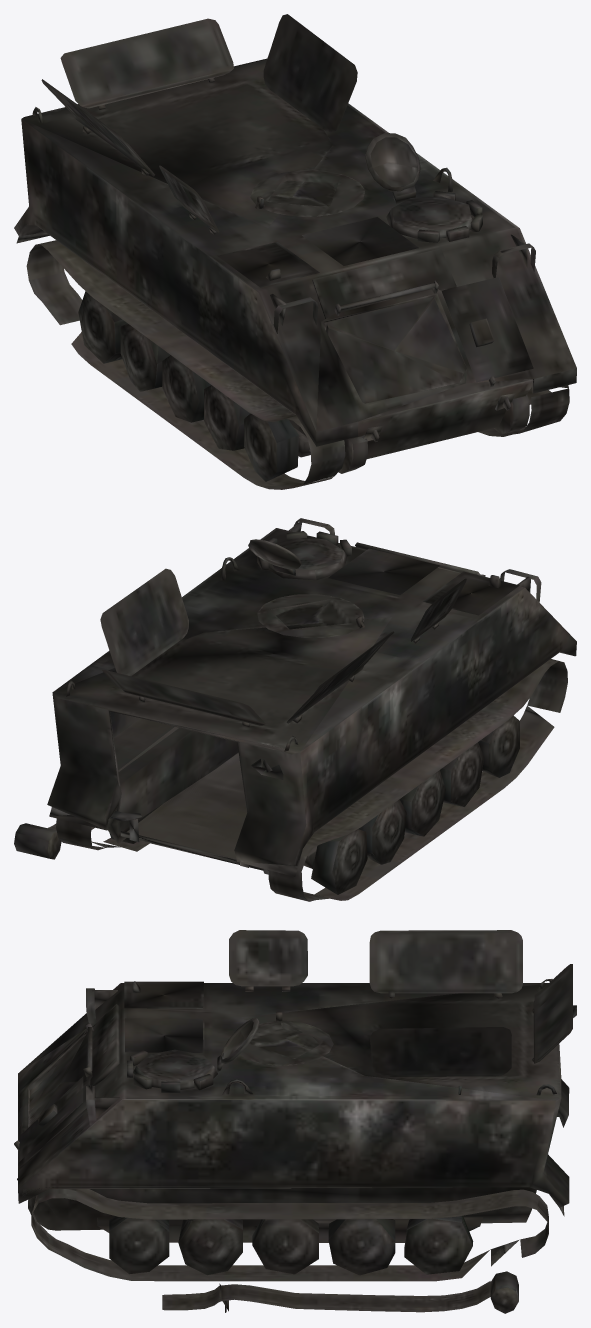
File: wreck_apc.glb
3 views of the same model, one above another, from view 1: azimuth 30°, elevation 25°; view 2: azimuth 150°, elevation 25°; view 3: azimuth 270°, elevation 25° (orthographic). The views are drawn at different scales.
Parts seen in each view (by area): view 1: hull; view 2: hull; view 3: hull.
Boxes of the visible parts, x1=… form: hull: x1=14, y1=14, x2=576, y2=489; hull: x1=14, y1=518, x2=576, y2=901; hull: x1=14, y1=930, x2=576, y2=1313.
Size of the model in its own units: 4.67 by 3.66 by 7.5.
Materials: 1 (1 with a texture image).
